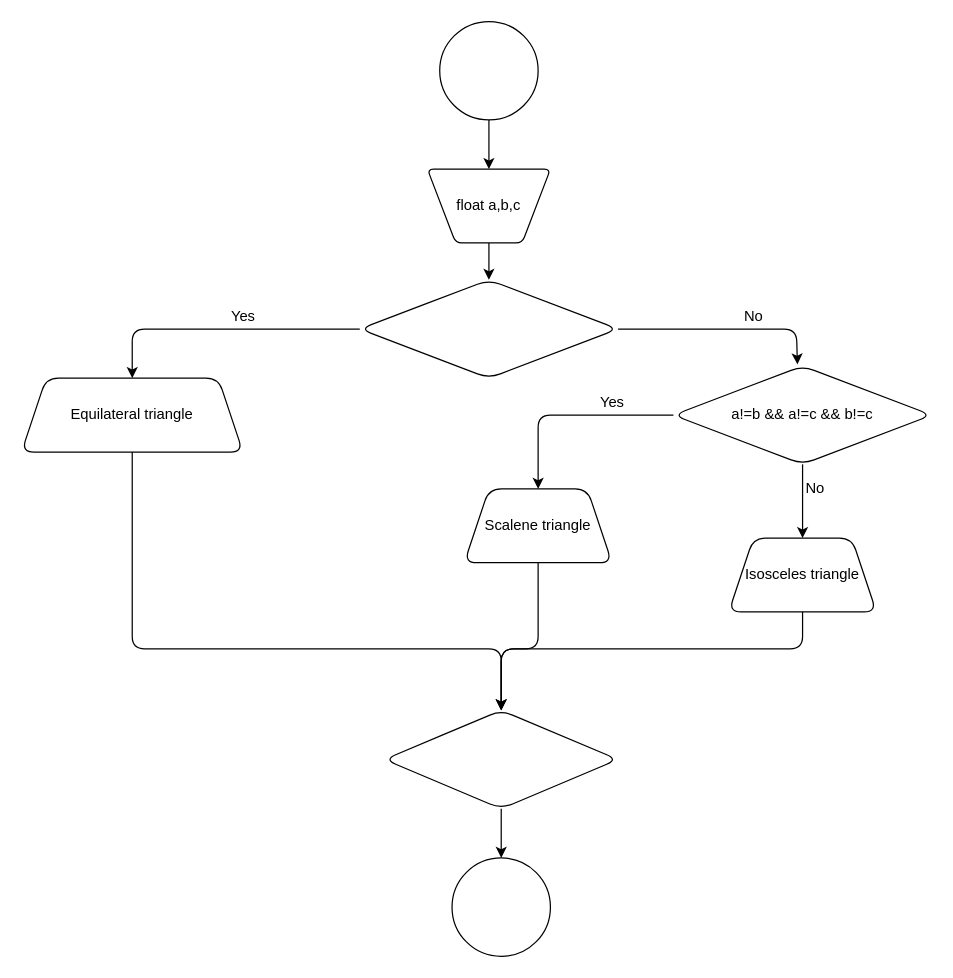
The diagram is 953 pixels wide and 978 high, and some of its shapes have lost their labels. The box of each missing label's shape, as (x1, y1, x2, y2) in pixels:
a==b && b==c: (359, 279, 618, 378)
start: (438, 20, 538, 120)
Stop: (451, 857, 550, 956)
